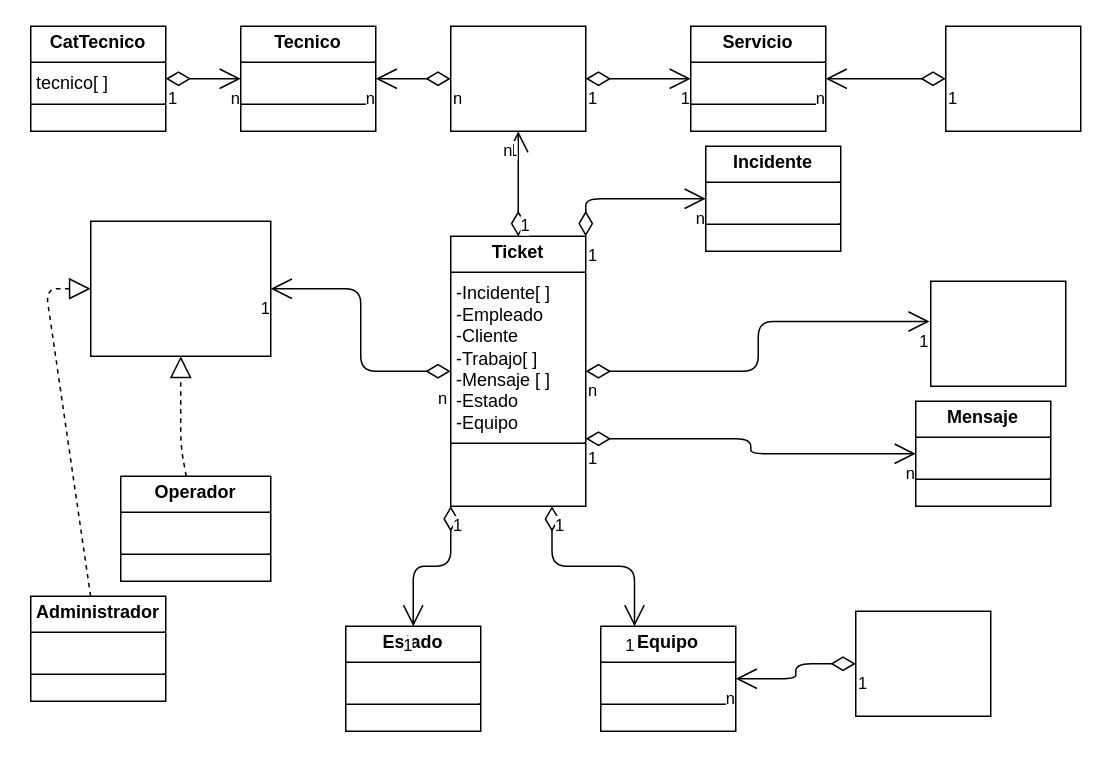
This 1107x758 diagram has some shape labels left out. Here are the shapes that lost their labels. From the top down, the centre of each, then its label:
point (517, 78): Trabajo servicio [ ] tecnico [ ]
point (1012, 78): Rubro servicio [ ]
point (180, 288): <<Interface>> Empleado
point (997, 333): Cliente
point (922, 663): CatEquipo
